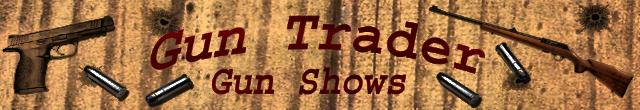pistol: (2, 13, 116, 93)
